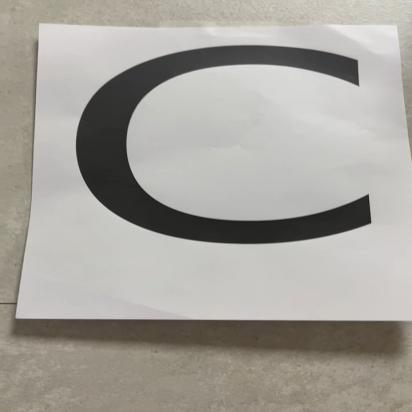seat: (32, 21, 382, 334)
